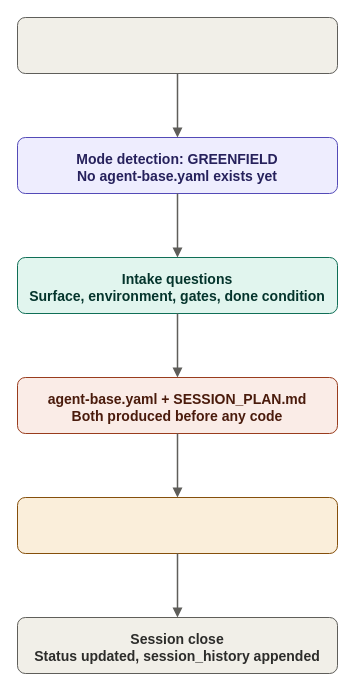
The diagram is 355 pixels wide and 691 high, and some of its shapes have lost their labels. Each missing label, with the centre of its shape:
Raw notes Scraper gave a false "all green" reading: (x=177, y=45)
S01 paste-ready session agent-implementer.yaml → base scrapers: (x=177, y=525)
